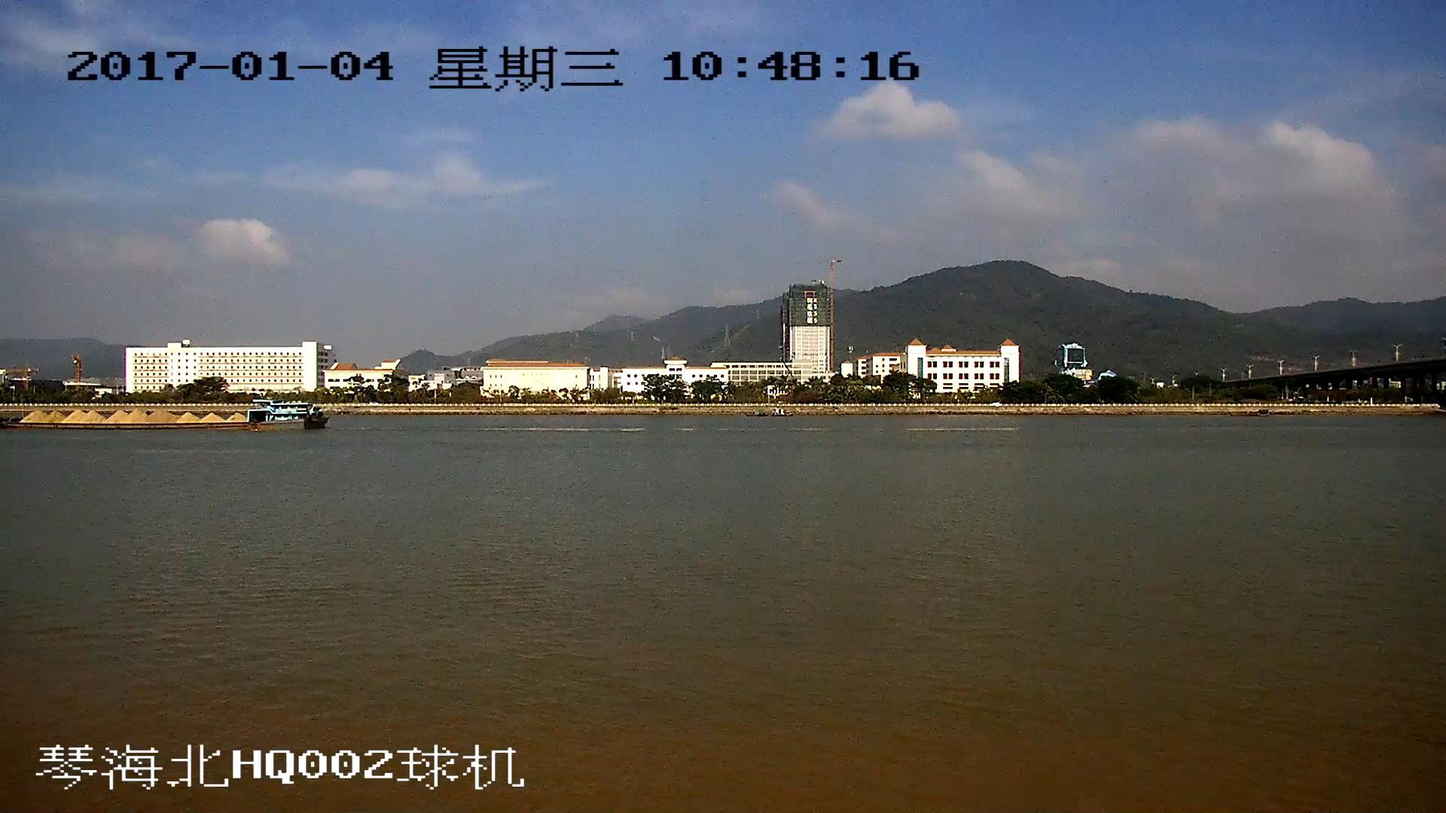ore carrier: (0, 400, 325, 429)
